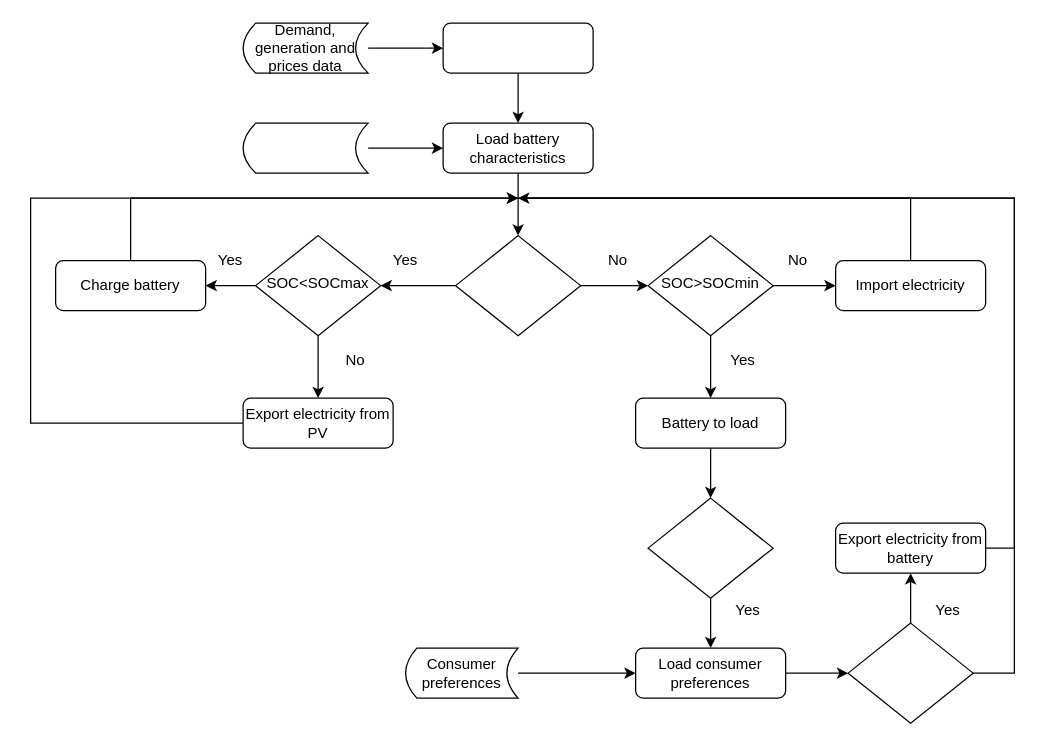
This 1046x745 diagram has some shape labels left out. The centre of each missing label's shape, as x and y in pixels:
Battery characteristics: (305,147)
Generation> Demand: (517,285)
Load demand, generation and prices: (517,47)
Sell to community?: (910,672)
SOC>SOCm: (710,547)
